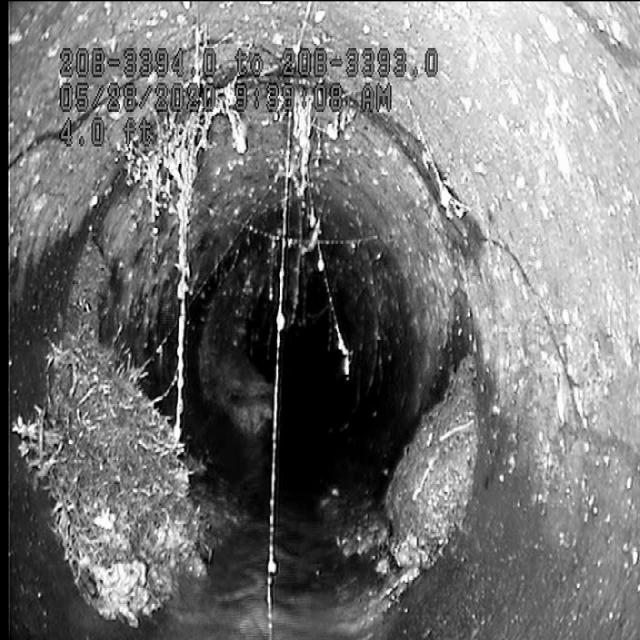Fracture: (448, 153, 604, 465)
